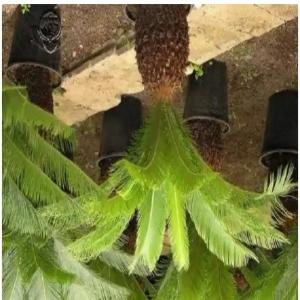palm tree: (2, 5, 297, 298)
